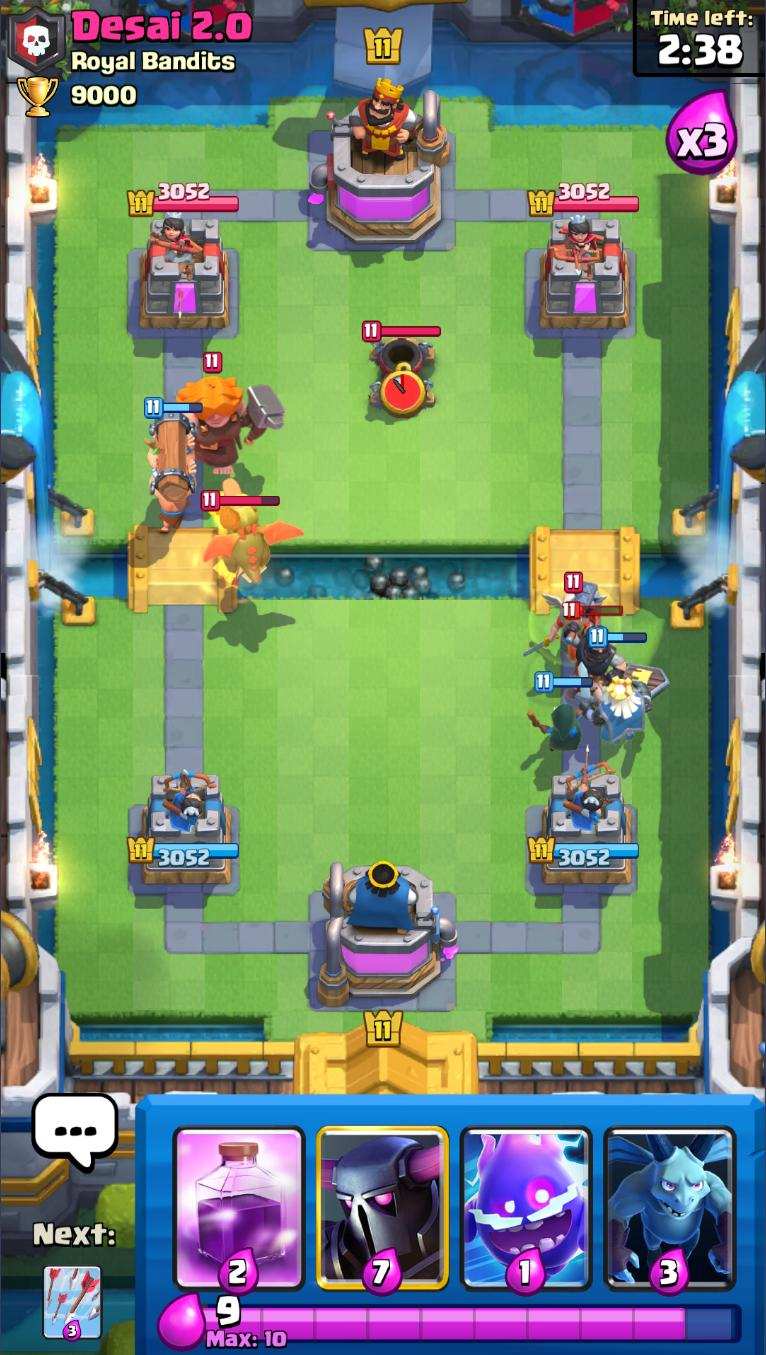ArrowNext: (41, 1262, 105, 1343)
BabyDragon: (200, 489, 302, 585)
DarkPrince: (559, 602, 630, 699)
ElectroSpiritDeck: (455, 1099, 598, 1295)
Elixir: (203, 1296, 744, 1351)
EnemyTower: (135, 216, 234, 331), (537, 216, 633, 333)
Healer: (528, 536, 618, 631)
KingTower: (307, 78, 453, 247)
MinionsDeck: (597, 1097, 742, 1298)
Mortar: (362, 319, 442, 413)
MyBandit: (527, 671, 595, 754)
MyBattleRam: (142, 399, 204, 538)
MyKingTower: (315, 859, 460, 1009)
MyPrincessTower: (526, 770, 641, 890), (128, 772, 242, 890)
MyPrincessTowerHP: (127, 836, 241, 869), (525, 835, 641, 867)
MyRoyaleGhost: (584, 628, 649, 746)
PekkaDeck: (312, 1101, 453, 1296)
RageDeck: (166, 1096, 312, 1295)
RuneGiant: (172, 355, 284, 480)
TowerPrincessHP: (528, 182, 640, 219), (128, 182, 241, 218)
